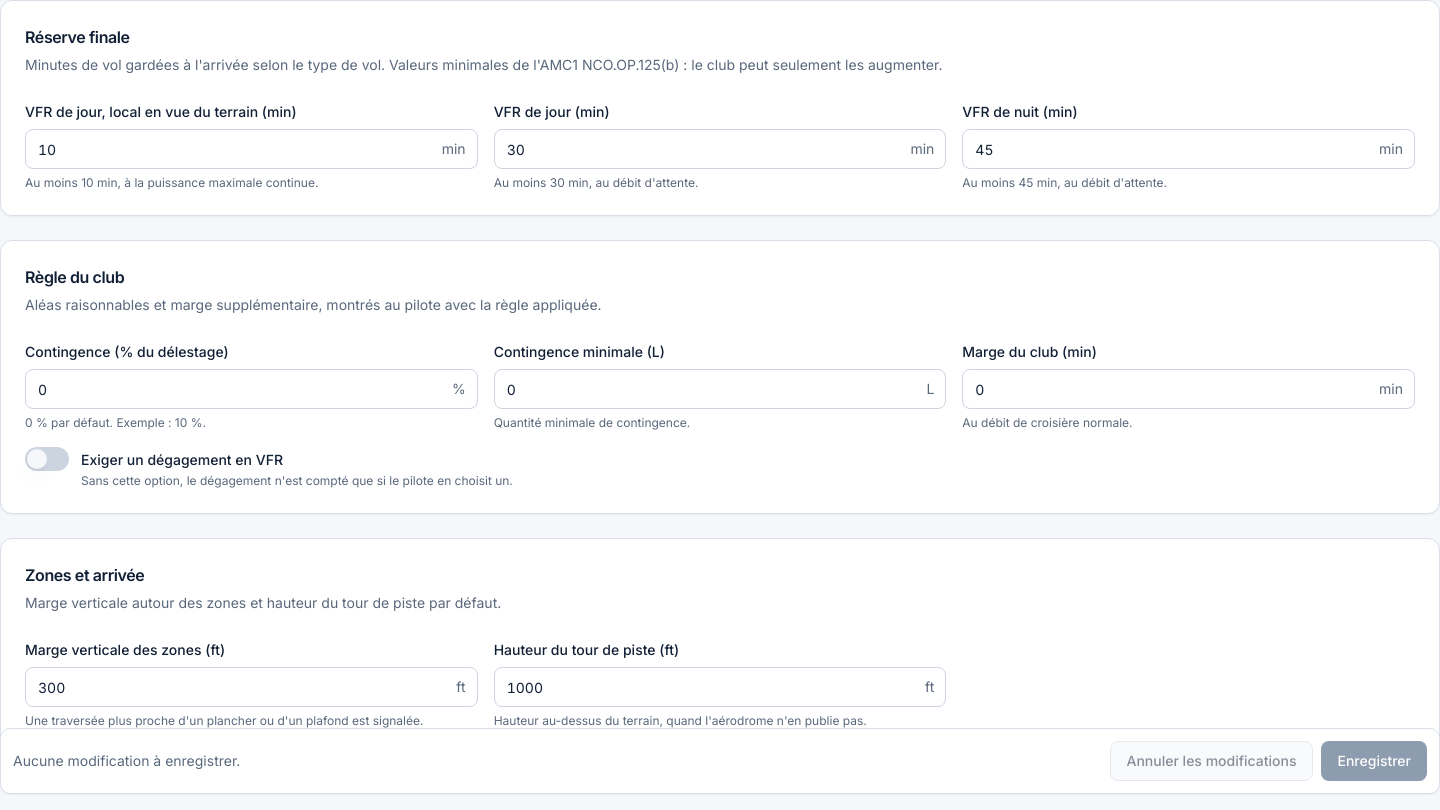
Test: club flight preparation settings › shows the AMC defaults and refuses a reserve below them
Check: the field labelled "VFR de nuit (min)" holds "45", box [962,129,1415,169]
Check: the field labelled "VFR de jour, local en vue du terrain (min)" holds "10", box [25,129,478,169]
Replace the text in the field labelled "VFR de jour (min)" with "20" at (720, 149), box [494,129,946,169]
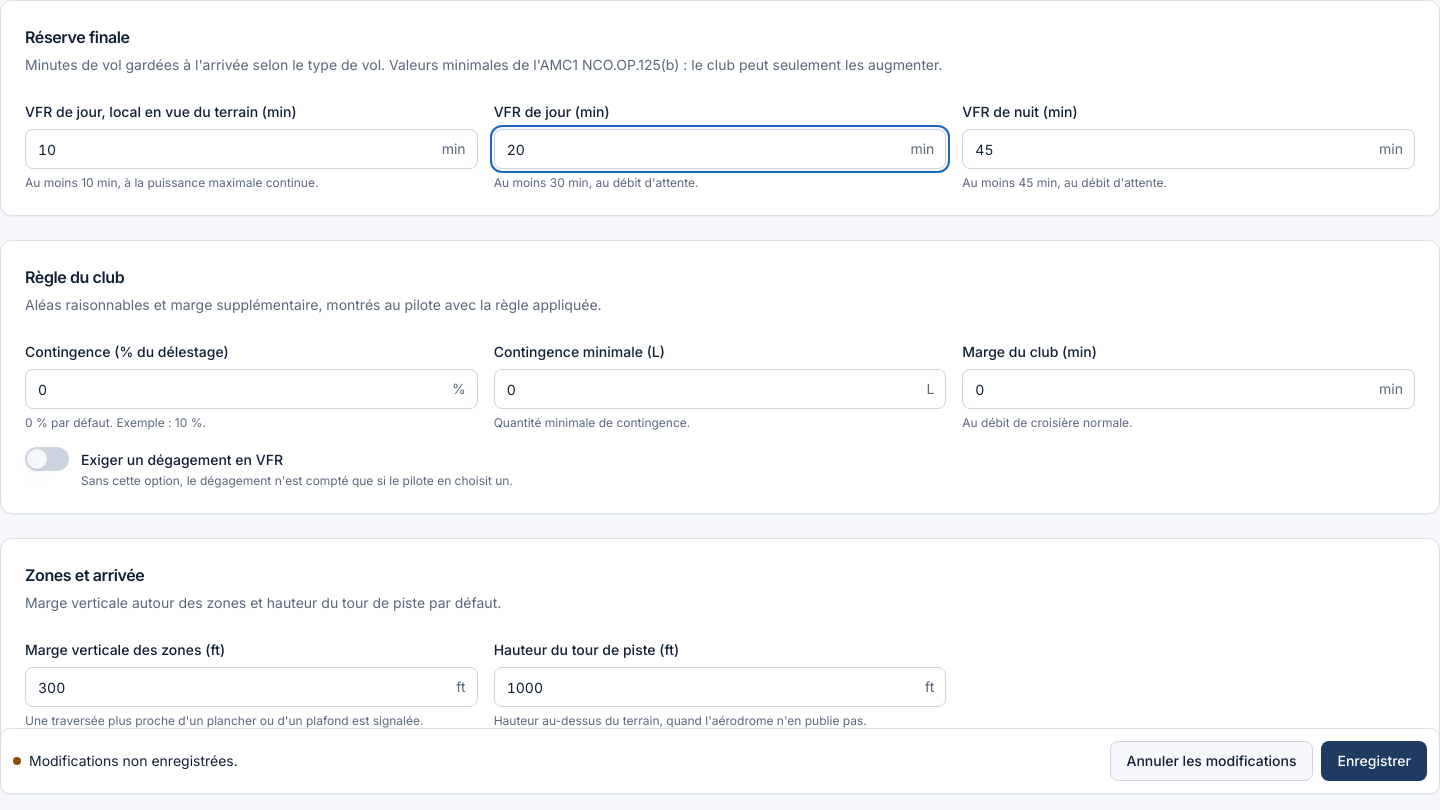
Click the button "Enregistrer" at (1374, 761), box [1322,741,1427,781]
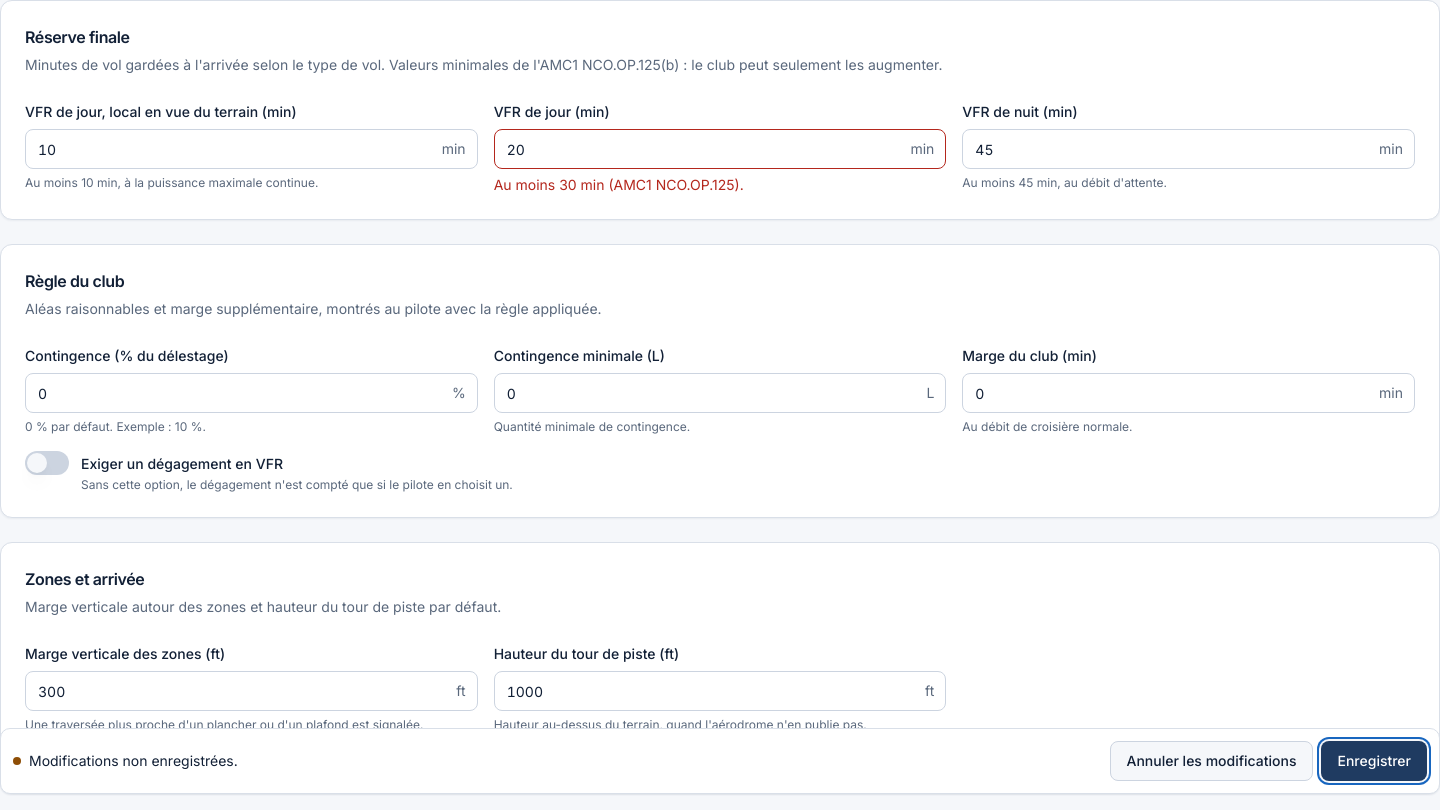
Check: the text "Au moins 30 min (AMC1 NCO.OP.125)." is shown, box [494,176,744,193]
